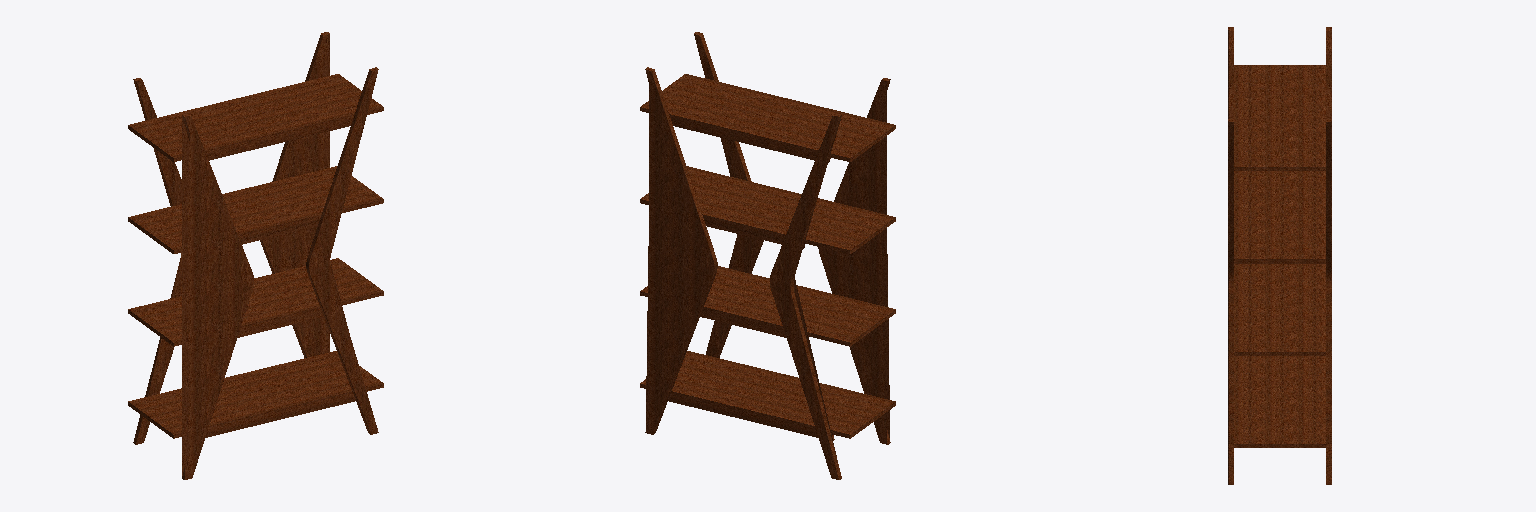
3 views of the same model, side by side, from view 1: azimuth 30°, elevation 25°; view 2: azimuth 150°, elevation 25°; view 3: azimuth 270°, elevation 25° (orthographic).
Visible parts, largest first — view 1: Mesh1 leg1 Component_17_1 Model, Mesh100 shelf4 Component_17_1 Model, Mesh34 shelf1 Component_17_1 Model, Mesh78 shelf3 Component_17_1 Model, Mesh2 leg2 Component_17_1 Model, Mesh56 shelf2 Component_17_1 Model, Mesh4 leg4 Component_17_1 Model, Mesh3 leg3 Component_17_1 Model, Mesh5 bottom_rail1 Component_17_1 Model, Mesh6 top_rail1 Component_17_1 Model, Mesh7 lower_mid_rail1 Component_17_1 Model, Mesh8 upper_mid_rail1 Component_17_1 Model; view 2: Mesh4 leg4 Component_17_1 Model, Mesh100 shelf4 Component_17_1 Model, Mesh1 leg1 Component_17_1 Model, Mesh34 shelf1 Component_17_1 Model, Mesh78 shelf3 Component_17_1 Model, Mesh56 shelf2 Component_17_1 Model, Mesh3 leg3 Component_17_1 Model, Mesh2 leg2 Component_17_1 Model, Mesh9 bottom_rail2 Component_17_1 Model, Mesh10 top_rail2 Component_17_1 Model, Mesh11 lower_mid_rail2 Component_17_1 Model, Mesh12 upper_mid_rail2 Component_17_1 Model; view 3: Mesh100 shelf4 Component_17_1 Model, Mesh78 shelf3 Component_17_1 Model, Mesh34 shelf1 Component_17_1 Model, Mesh56 shelf2 Component_17_1 Model, Mesh2 leg2 Component_17_1 Model, Mesh4 leg4 Component_17_1 Model, Mesh1 leg1 Component_17_1 Model, Mesh3 leg3 Component_17_1 Model.
Boxes of the visible parts, box(x1,y1,x2,y2) form: Mesh1 leg1 Component_17_1 Model: box(182, 114, 253, 479); Mesh100 shelf4 Component_17_1 Model: box(128, 74, 383, 161); Mesh34 shelf1 Component_17_1 Model: box(128, 351, 383, 438); Mesh78 shelf3 Component_17_1 Model: box(128, 166, 383, 253); Mesh2 leg2 Component_17_1 Model: box(306, 67, 378, 434); Mesh56 shelf2 Component_17_1 Model: box(128, 258, 383, 346); Mesh4 leg4 Component_17_1 Model: box(260, 32, 329, 357); Mesh3 leg3 Component_17_1 Model: box(133, 78, 181, 444); Mesh5 bottom_rail1 Component_17_1 Model: box(206, 395, 355, 437); Mesh6 top_rail1 Component_17_1 Model: box(207, 119, 352, 160); Mesh7 lower_mid_rail1 Component_17_1 Model: box(238, 311, 323, 337); Mesh8 upper_mid_rail1 Component_17_1 Model: box(239, 219, 319, 244); Mesh4 leg4 Component_17_1 Model: box(645, 67, 717, 434); Mesh100 shelf4 Component_17_1 Model: box(640, 74, 895, 161); Mesh1 leg1 Component_17_1 Model: box(818, 78, 890, 444); Mesh34 shelf1 Component_17_1 Model: box(640, 351, 895, 438); Mesh78 shelf3 Component_17_1 Model: box(640, 166, 895, 253); Mesh56 shelf2 Component_17_1 Model: box(640, 266, 895, 346); Mesh3 leg3 Component_17_1 Model: box(770, 114, 841, 479); Mesh2 leg2 Component_17_1 Model: box(694, 32, 763, 357); Mesh9 bottom_rail2 Component_17_1 Model: box(668, 395, 834, 440); Mesh10 top_rail2 Component_17_1 Model: box(671, 119, 830, 162); Mesh11 lower_mid_rail2 Component_17_1 Model: box(700, 311, 785, 337); Mesh12 upper_mid_rail2 Component_17_1 Model: box(704, 219, 804, 248); Mesh100 shelf4 Component_17_1 Model: box(1234, 65, 1325, 170); Mesh78 shelf3 Component_17_1 Model: box(1234, 171, 1325, 263); Mesh34 shelf1 Component_17_1 Model: box(1234, 356, 1325, 447); Mesh56 shelf2 Component_17_1 Model: box(1234, 264, 1325, 355); Mesh2 leg2 Component_17_1 Model: box(1228, 119, 1233, 484); Mesh4 leg4 Component_17_1 Model: box(1326, 119, 1331, 484); Mesh1 leg1 Component_17_1 Model: box(1228, 27, 1233, 118); Mesh3 leg3 Component_17_1 Model: box(1326, 27, 1331, 118).
Size of the model in its own units: 19.64 by 32.45 by 8.35.
Materials: 2 (1 with a texture image).